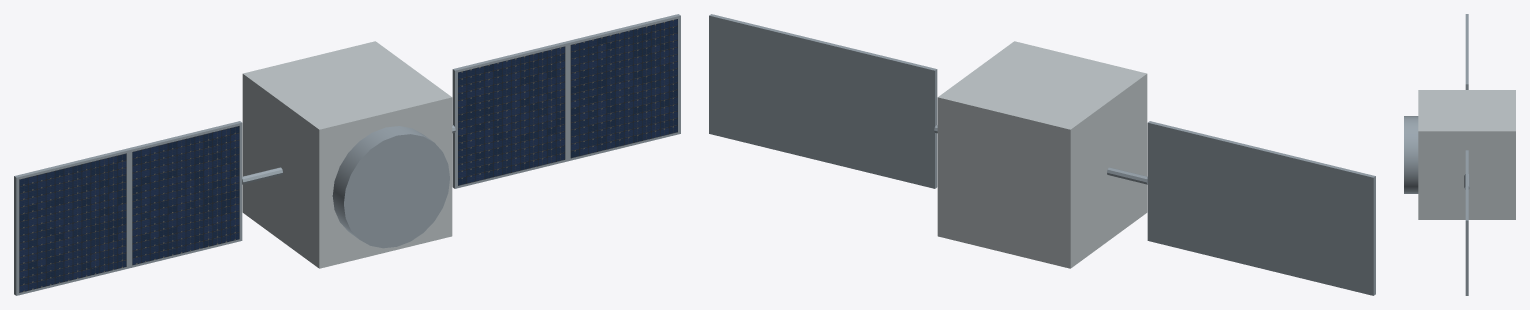
File: ref-mn200-58822.glb
3 views of the same model, side by side, from view 1: azimuth 30°, elevation 25°; view 2: azimuth 150°, elevation 25°; view 3: azimuth 270°, elevation 25° (orthographic). The views are drawn at different scales.
Visible parts, largest first — view 1: Photovoltaic laminates (×4), Spacecraft body, Cylindrical section, Array frame (×4); view 2: Array frame (×4), Spacecraft body; view 3: Spacecraft body, Cylindrical section, Array frame (×4).
Part boxes in pixels (x1,y1,x2,y2): Photovoltaic laminates (×4): (19,19,677,292); Spacecraft body: (242,41,452,268); Cylindrical section: (332,126,449,248); Array frame (×4): (14,14,680,295); Array frame (×4): (709,14,1375,295); Spacecraft body: (937,41,1147,268); Spacecraft body: (1418,90,1515,219); Cylindrical section: (1404,116,1418,193); Array frame (×4): (1465,14,1468,295).
Size of the model in its own units: 5 by 1 by 1.15.
Materials: 3 (1 with a texture image).
